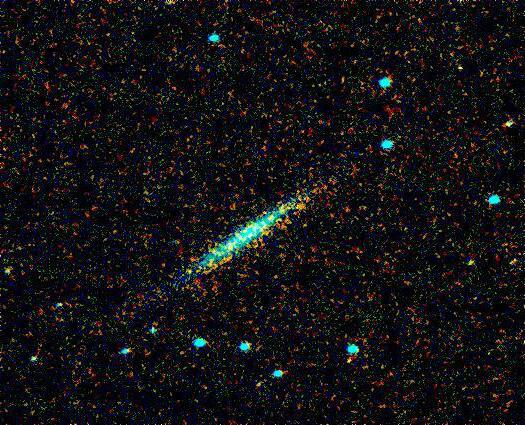star: (246, 369, 276, 399)
